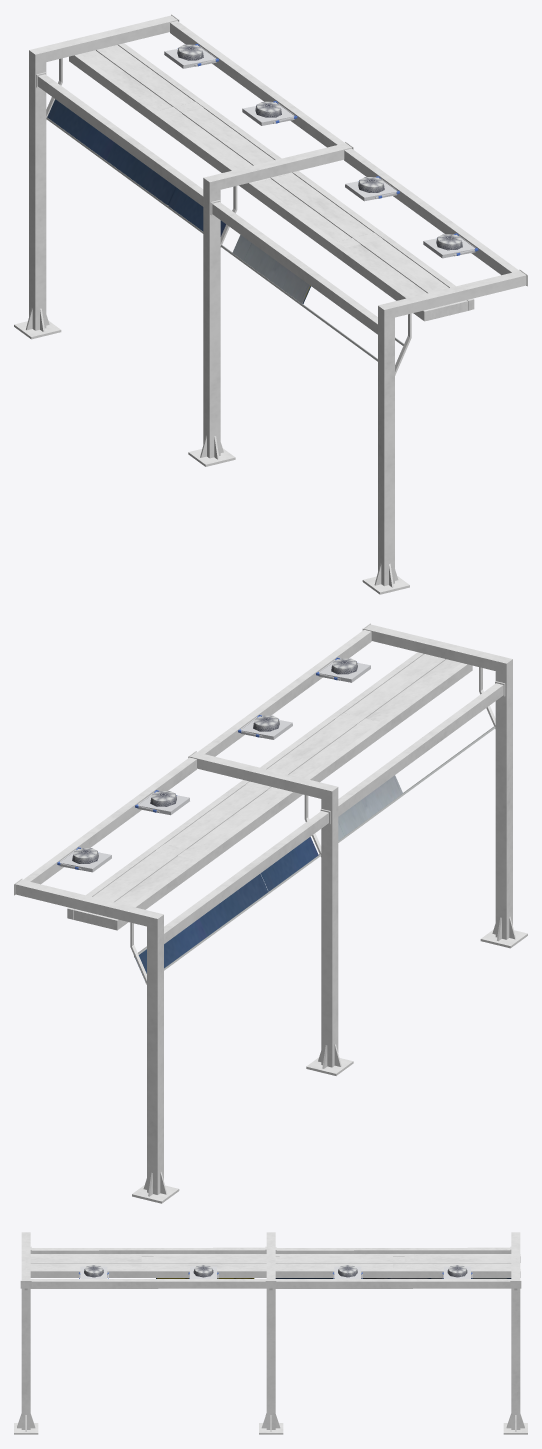
File: LS_CaoZuoTai.FBX
3 renders of one model, top to bottom at view 1: azimuth 30°, elevation 25°; view 2: azimuth 150°, elevation 25°; view 3: azimuth 270°, elevation 25°, orthographic. The views are drawn at different scales.
Visible parts, largest first — view 1: YF_Model_LS_CaoZuoJia7, YF_Model_LS_CaoZuoJia6, YF_Model_LS_CaoZuoJia14, YF_Model_LS_CaoZuoJia15, YF_Model_LS_CaoZuoJia16, YF_Model_LS_CaoZuoJia4, YF_Model_LS_CaoZuoJia, YF_Model_LS_CaoZuoJia1, YF_Model_LS_CaoZuoJia8, YF_Model_LS_CaoZuoJia9, YF_Model_LS_CaoZuoJia2, YF_Model_LS_CaoZuoJia5 (+5 smaller); view 2: YF_Model_LS_CaoZuoJia6, YF_Model_LS_CaoZuoJia7, YF_Model_LS_CaoZuoJia16, YF_Model_LS_CaoZuoJia15, YF_Model_LS_CaoZuoJia14, YF_Model_LS_CaoZuoJia1, YF_Model_LS_CaoZuoJia, YF_Model_LS_CaoZuoJia4, YF_Model_LS_CaoZuoJia8, YF_Model_LS_CaoZuoJia9, YF_Model_LS_CaoZuoJia2, YF_Model_LS_CaoZuoJia3 (+5 smaller); view 3: YF_Model_LS_CaoZuoJia7, YF_Model_LS_CaoZuoJia6, YF_Model_LS_CaoZuoJia9, YF_Model_LS_CaoZuoJia8, YF_Model_LS_CaoZuoJia16, YF_Model_LS_CaoZuoJia15, YF_Model_LS_CaoZuoJia14, YF_Model_LS_CaoZuoJia1, YF_Model_LS_CaoZuoJia, YF_Model_LS_CaoZuoJia13, YF_Model_LS_CaoZuoJia10, YF_Model_LS_CaoZuoJia12 (+1 smaller).
Boxes of the visible parts, x1,y1,x2,y2 form: YF_Model_LS_CaoZuoJia7: (246, 171, 474, 321); YF_Model_LS_CaoZuoJia6: (69, 43, 281, 190); YF_Model_LS_CaoZuoJia14: (362, 269, 527, 594); YF_Model_LS_CaoZuoJia15: (188, 142, 353, 466); YF_Model_LS_CaoZuoJia16: (14, 14, 179, 339); YF_Model_LS_CaoZuoJia4: (47, 99, 176, 205); YF_Model_LS_CaoZuoJia: (36, 72, 203, 206); YF_Model_LS_CaoZuoJia1: (210, 200, 377, 334); YF_Model_LS_CaoZuoJia8: (344, 148, 519, 275); YF_Model_LS_CaoZuoJia9: (170, 21, 344, 147); YF_Model_LS_CaoZuoJia2: (232, 235, 311, 303); YF_Model_LS_CaoZuoJia5: (46, 117, 403, 361); YF_Model_LS_CaoZuoJia6: (67, 780, 293, 930); YF_Model_LS_CaoZuoJia7: (250, 652, 472, 800); YF_Model_LS_CaoZuoJia16: (14, 878, 179, 1203); YF_Model_LS_CaoZuoJia15: (188, 751, 353, 1075); YF_Model_LS_CaoZuoJia14: (362, 623, 527, 948); YF_Model_LS_CaoZuoJia1: (338, 681, 505, 816); YF_Model_LS_CaoZuoJia: (164, 809, 330, 943); YF_Model_LS_CaoZuoJia4: (134, 873, 268, 975); YF_Model_LS_CaoZuoJia8: (197, 630, 371, 756); YF_Model_LS_CaoZuoJia9: (23, 757, 196, 884); YF_Model_LS_CaoZuoJia2: (338, 775, 402, 840); YF_Model_LS_CaoZuoJia3: (260, 837, 318, 891); YF_Model_LS_CaoZuoJia7: (30, 1254, 266, 1277); YF_Model_LS_CaoZuoJia6: (275, 1254, 520, 1277); YF_Model_LS_CaoZuoJia9: (275, 1279, 511, 1288); YF_Model_LS_CaoZuoJia8: (30, 1279, 266, 1288); YF_Model_LS_CaoZuoJia16: (503, 1232, 527, 1434); YF_Model_LS_CaoZuoJia15: (259, 1232, 283, 1434); YF_Model_LS_CaoZuoJia14: (14, 1232, 38, 1434); YF_Model_LS_CaoZuoJia1: (30, 1246, 266, 1253); YF_Model_LS_CaoZuoJia: (275, 1246, 511, 1253); YF_Model_LS_CaoZuoJia13: (332, 1265, 362, 1278); YF_Model_LS_CaoZuoJia10: (78, 1265, 108, 1278); YF_Model_LS_CaoZuoJia12: (442, 1265, 472, 1278).
Bounding box in the file's own units: 184 × 327 × 763.
